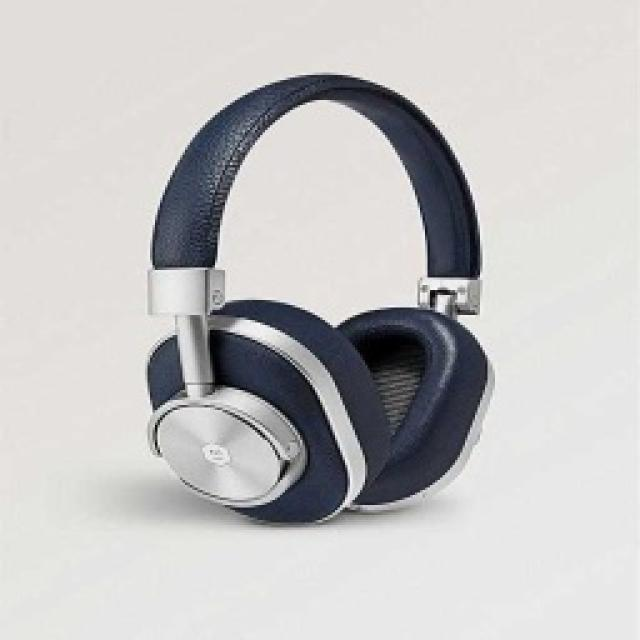headphones: (142, 70, 492, 525)
